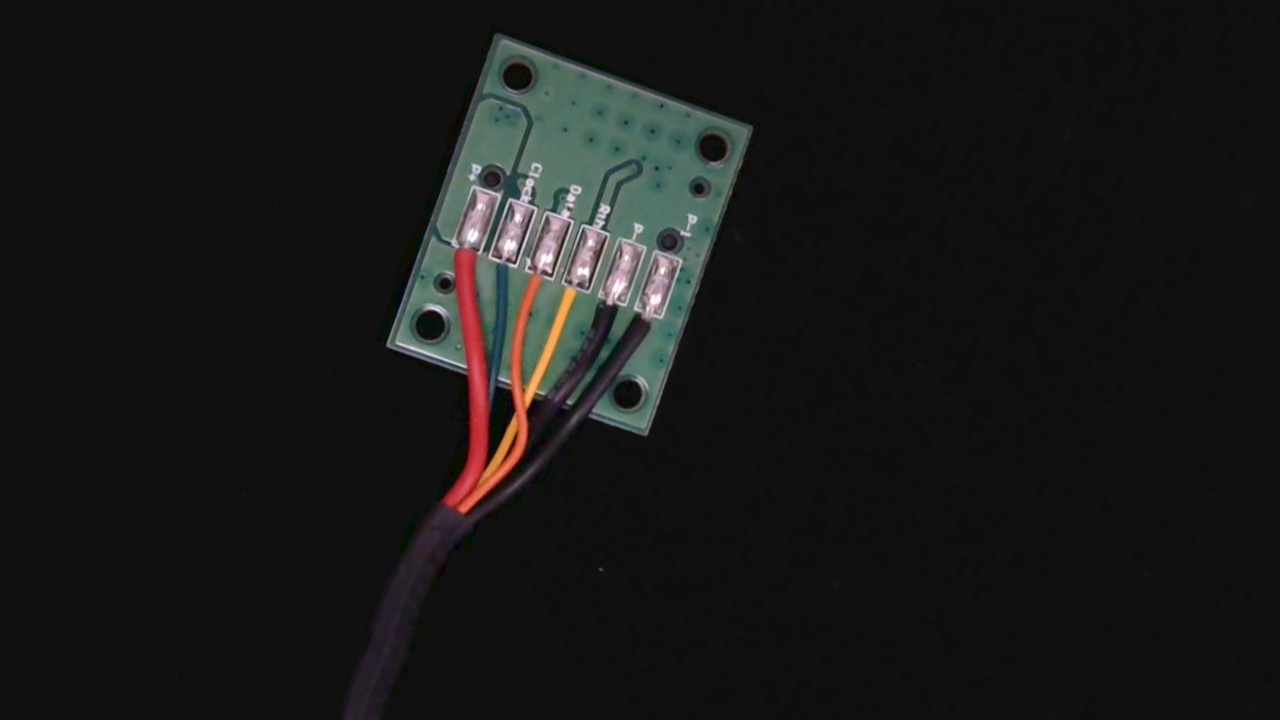Black: (577, 281, 632, 353)
Black1: (619, 295, 667, 359)
Green: (475, 241, 526, 306)
Orange: (507, 252, 559, 321)
Red: (434, 231, 486, 298)
Yellow: (542, 268, 593, 337)
